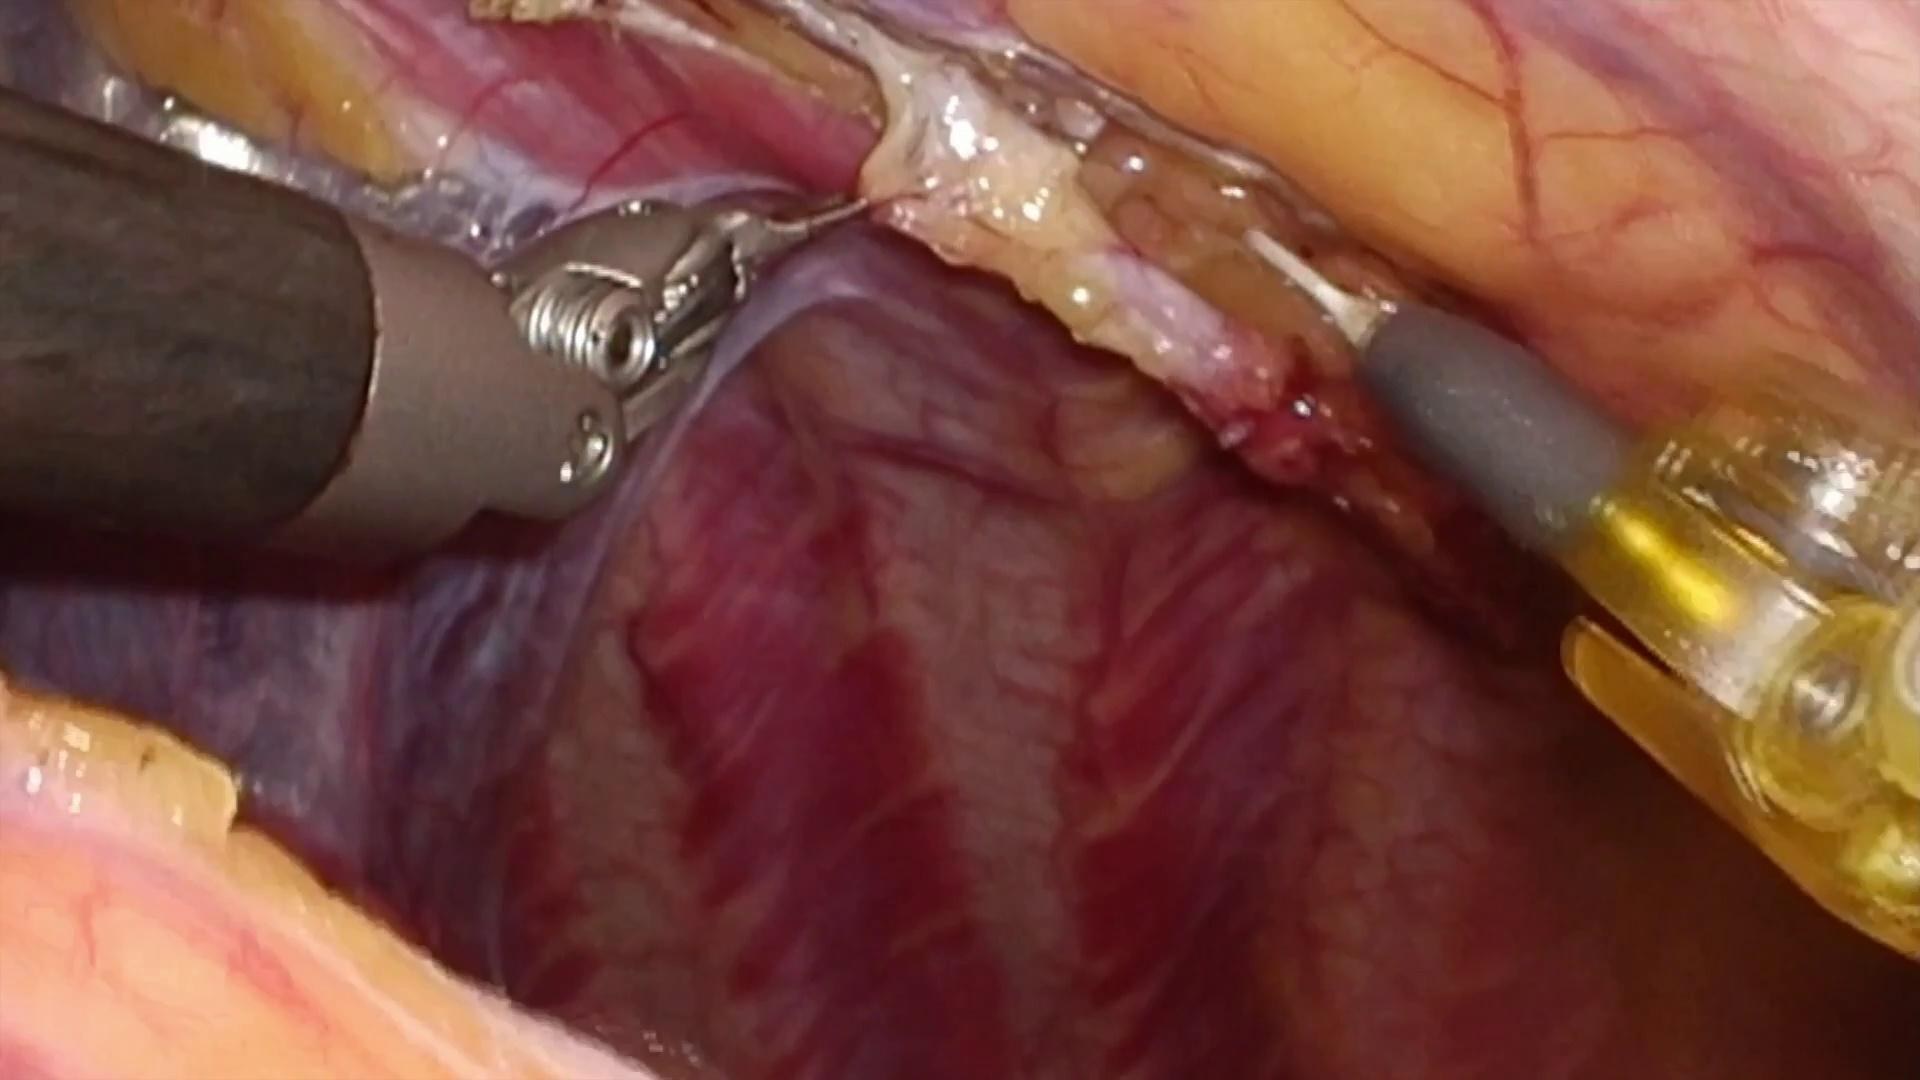Cautery_Spatula: (1234, 227, 1643, 562)
Debakey: (713, 177, 876, 282)
